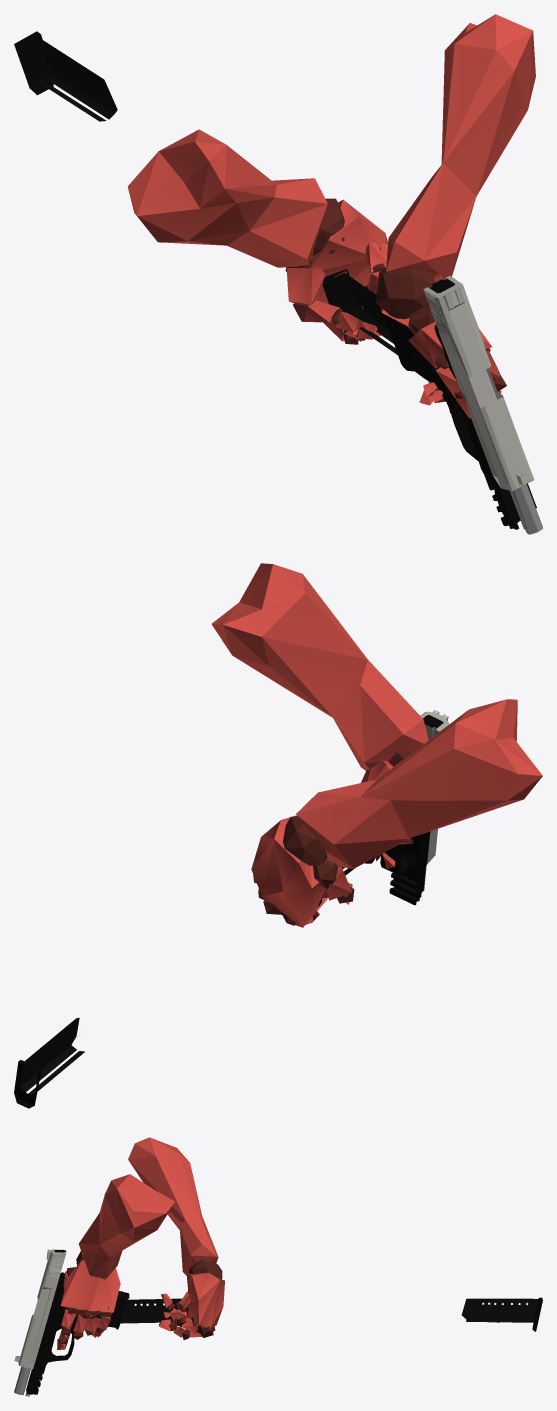
File: M&P9reloadNormal1lowP_000135.obj
3 renders of one model, top to bottom at view 1: azimuth 30°, elevation 25°; view 2: azimuth 150°, elevation 25°; view 3: azimuth 270°, elevation 25°, orthographic. The views are drawn at different scales.
Visible parts, largest first — view 1: Beta_Surface.001_Beta_Surface.002, slide_平面.002, triger_平面.001, Beta_Joints.001_Beta_Joints.002, magazine_平面.003, magazine.002_平面.005; view 2: Beta_Surface.001_Beta_Surface.002, magazine_平面.003, Beta_Joints.001_Beta_Joints.002, triger_平面.001, slide_平面.002; view 3: Beta_Surface.001_Beta_Surface.002, triger_平面.001, slide_平面.002, magazine_平面.003, Beta_Joints.001_Beta_Joints.002, magazine.002_平面.005.
Part boxes in pixels (x1,y1,x2,y2): Beta_Surface.001_Beta_Surface.002: (127, 14, 535, 418); slide_平面.002: (423, 276, 534, 491); triger_平面.001: (384, 315, 542, 534); Beta_Joints.001_Beta_Joints.002: (285, 198, 506, 398); magazine_平面.003: (14, 31, 117, 121); magazine.002_平面.005: (322, 269, 397, 354); Beta_Surface.001_Beta_Surface.002: (211, 563, 542, 927); magazine_平面.003: (14, 1017, 84, 1108); Beta_Joints.001_Beta_Joints.002: (254, 750, 415, 925); triger_平面.001: (365, 831, 430, 905); slide_平面.002: (420, 710, 448, 864); Beta_Surface.001_Beta_Surface.002: (57, 1137, 224, 1349); triger_平面.001: (14, 1272, 129, 1396); slide_平面.002: (14, 1249, 66, 1369); magazine_平面.003: (461, 1297, 542, 1331); Beta_Joints.001_Beta_Joints.002: (58, 1251, 222, 1345); magazine.002_平面.005: (120, 1298, 189, 1331).
Size of the model in its own units: 63.32 by 69.56 by 140.
